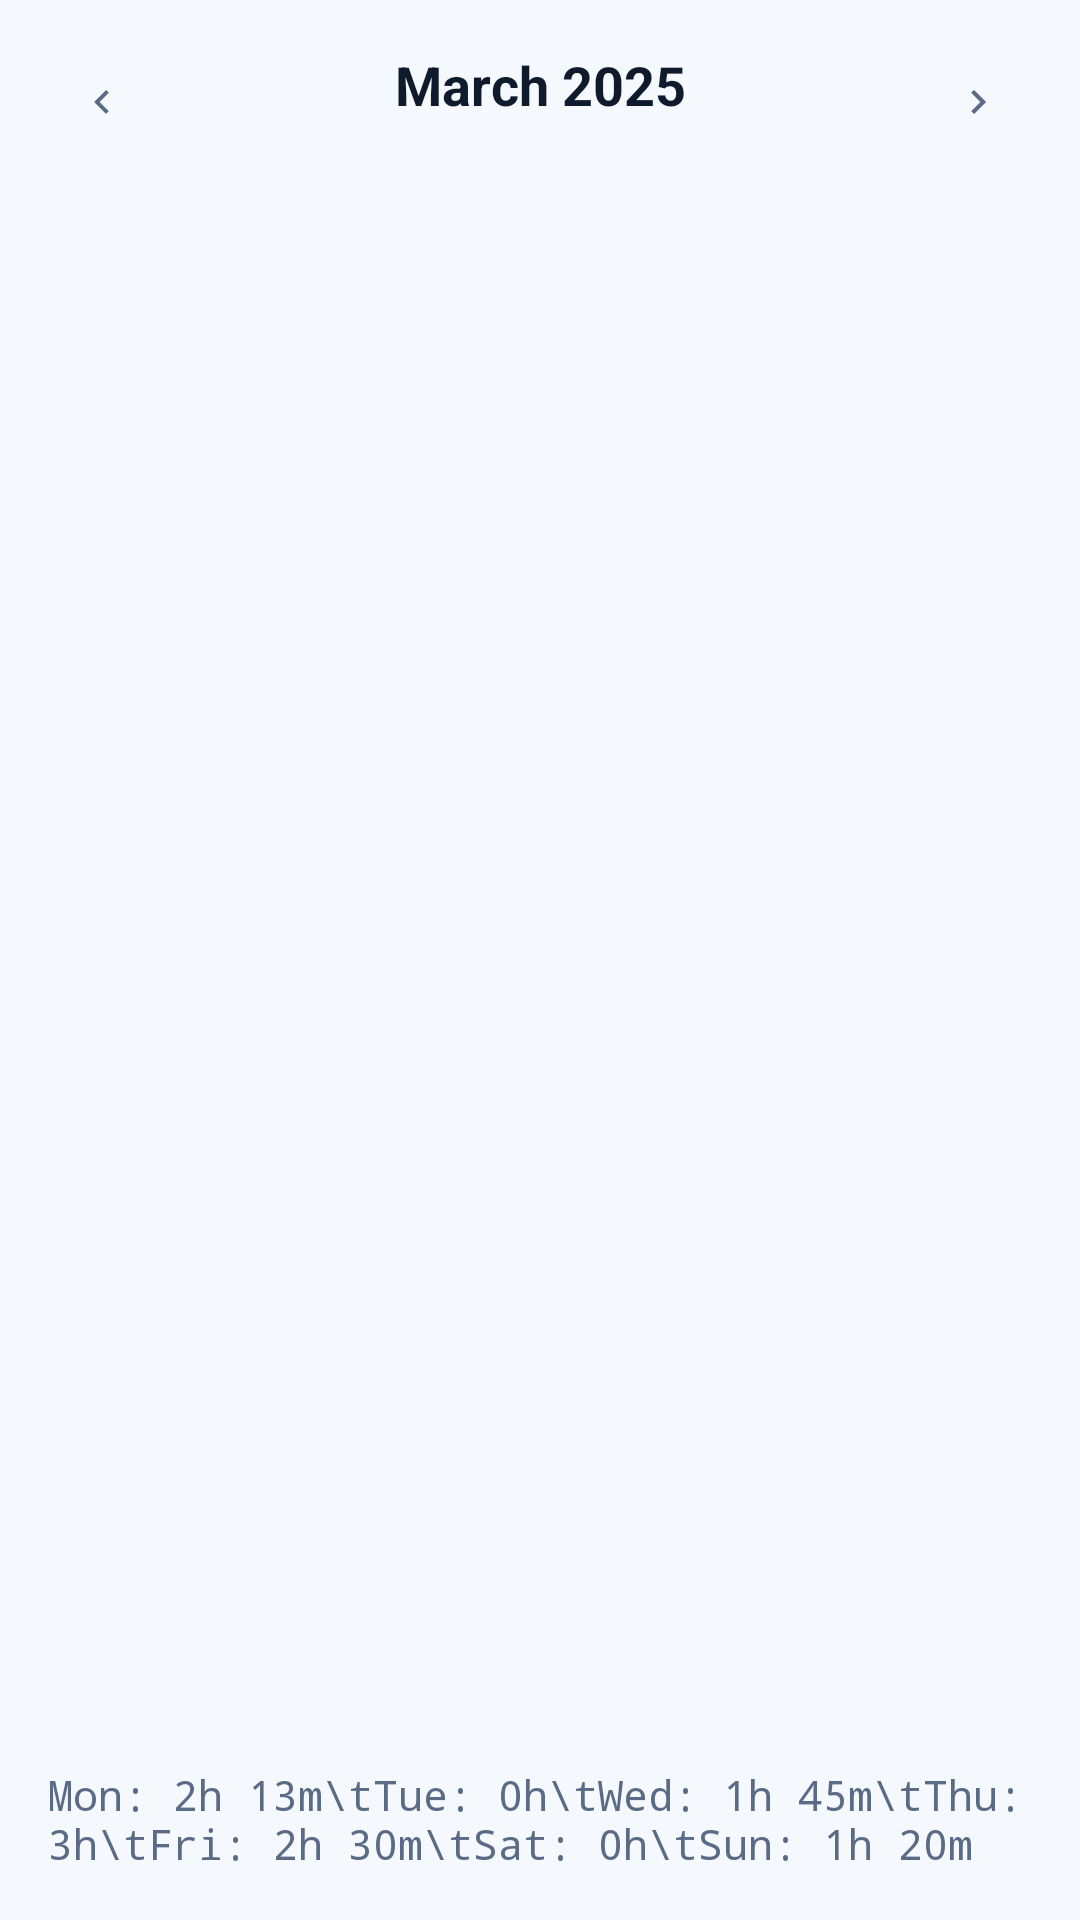

Icons on this 1080*1920 Android screen, each with its box as rect(x1, y1, x2, y2):
chevron left: rect(94, 90, 109, 114)
chevron right: rect(971, 90, 986, 114)
